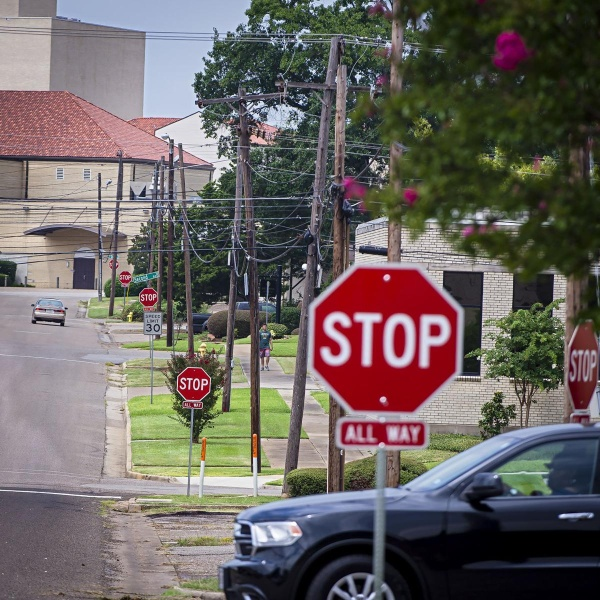stop: (320, 267, 466, 414), (171, 361, 209, 405)
